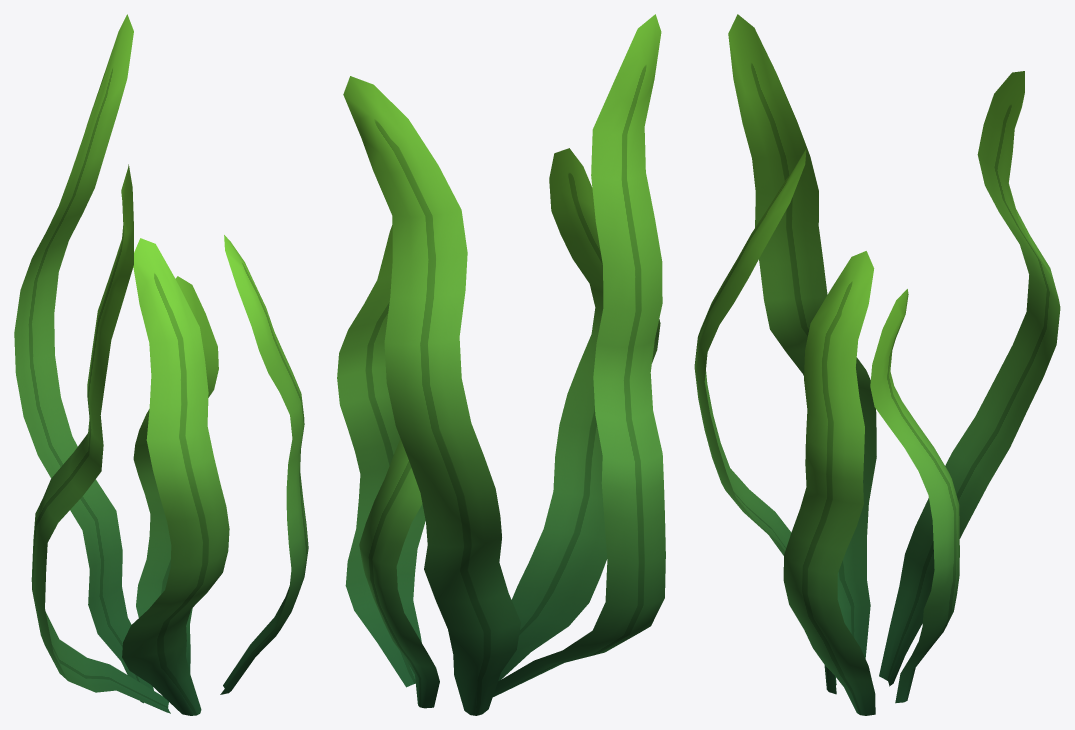
Rendered from SM_Seaweed_Bunch03.fbx.
3 renders of one model, left to right at view 1: azimuth 30°, elevation 25°; view 2: azimuth 150°, elevation 25°; view 3: azimuth 270°, elevation 25°, orthographic. The views are drawn at different scales.
Parts seen in each view (by area): view 1: Seaweed_Base9, Seaweed_Base10, Seaweed_Base7, Seaweed_Base6, Seaweed_Base8; view 2: Seaweed_Base10, Seaweed_Base7, Seaweed_Base9, Seaweed_Base6, Seaweed_Base8; view 3: Seaweed_Base6, Seaweed_Base7, Seaweed_Base10, Seaweed_Base8, Seaweed_Base9.
Part boxes in pixels (box(x1,y1,x2,y2)): Seaweed_Base9: box(122, 238, 229, 715); Seaweed_Base10: box(14, 14, 153, 703); Seaweed_Base7: box(31, 164, 170, 713); Seaweed_Base6: box(220, 235, 308, 694); Seaweed_Base8: box(133, 276, 218, 673); Seaweed_Base10: box(343, 76, 520, 715); Seaweed_Base7: box(493, 14, 665, 696); Seaweed_Base9: box(498, 148, 660, 680); Seaweed_Base6: box(337, 225, 425, 687); Seaweed_Base8: box(359, 438, 439, 708); Seaweed_Base6: box(783, 251, 875, 715); Seaweed_Base7: box(728, 14, 876, 658); Seaweed_Base10: box(879, 71, 1060, 686); Seaweed_Base8: box(870, 289, 959, 703); Seaweed_Base9: box(694, 148, 836, 694).
Bounding box in the file's own units: 2.18 × 4.68 × 2.44.
1 material, 1 textured.
